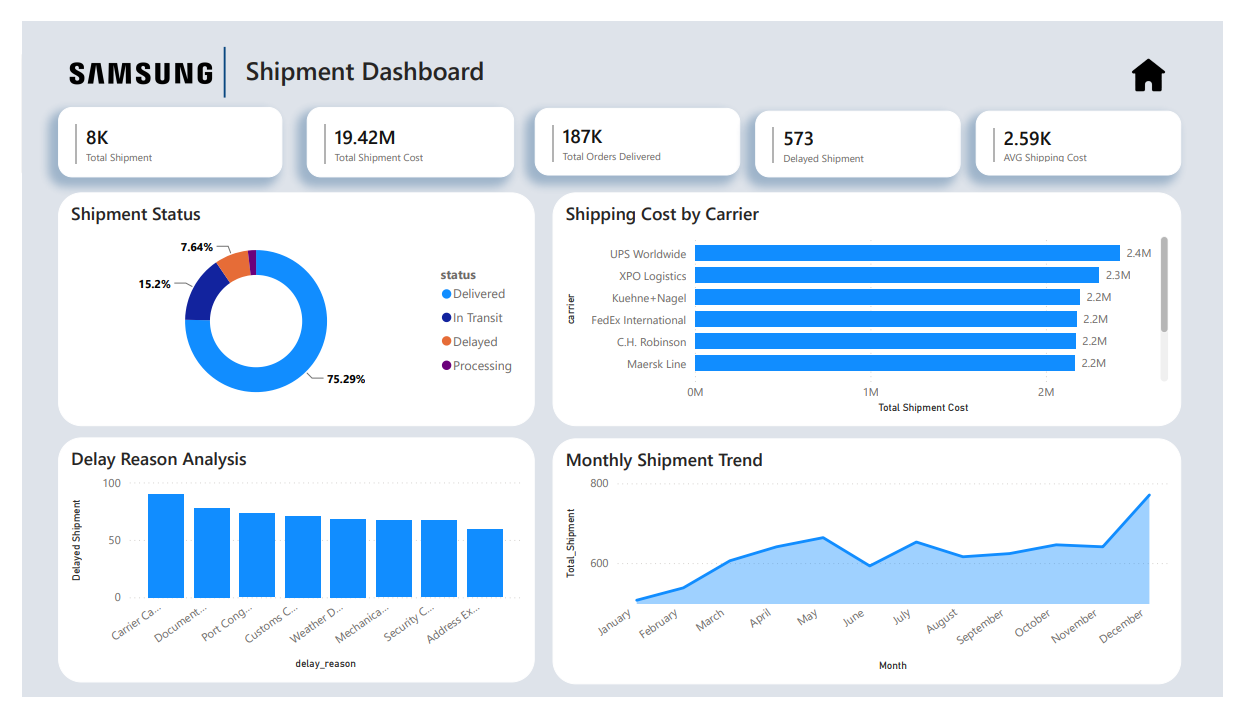

This screenshot's page, from the dashboard's own definition file:
{"tool":"powerbi","page":{"name":"Shipment","canvas":[1280,720],"ordinal":4},"visuals":[{"type":"image","box":[38.9,22.2,169.2,64.7],"z":1000},{"type":"shape","box":[139.7,27.2,153,53.5],"z":2000},{"type":"shape","title":"Shipment Dashboard","box":[239.5,33.2,307.3,43.3],"z":3000},{"type":"cardVisual","fields":{"Data":["Inventory.Total Shipment Cost"]},"box":[304.4,90.9,220.7,75],"z":4000},{"type":"cardVisual","fields":{"Data":["Measures Table.Total Orders Delivered"]},"box":[546.8,92.3,219.3,72.1],"z":5000},{"type":"cardVisual","fields":{"Data":["Inventory.Delayed Shipment"]},"box":[782,95.2,219.3,70.7],"z":6000},{"type":"cardVisual","fields":{"Data":["Inventory.AVG Shipping Cost"]},"box":[1017.1,95.2,219.3,69.3],"z":7000},{"type":"cardVisual","fields":{"Data":["Measures Table.Total_Shipment"]},"box":[39,90.9,239.5,75],"z":8000},{"type":"donutChart","title":"Shipment Status","fields":{"Category":["fact_Shipment.status"],"Y":["Measures Table.Total_Shipment"]},"box":[39,181.8,507.9,249.6],"z":9000},{"type":"clusteredBarChart","title":"Shipping Cost by Carrier","fields":{"Category":["fact_Shipment.carrier"],"Y":["Inventory.Total Shipment Cost"]},"box":[565.6,181.8,670.9,249.6],"z":10000},{"type":"areaChart","title":"Monthly Shipment Trend","fields":{"Y":["Measures Table.Total_Shipment"],"Category":["dim_Date.date.Variation.Date Hierarchy.Month"]},"box":[565.6,444.4,670.9,261.1],"z":11000},{"type":"columnChart","title":"Delay Reason Analysis","fields":{"Category":["fact_Shipment.delay_reason"],"Y":["Inventory.Delayed Shipment"]},"box":[39,442.9,507.9,261.1],"z":12000},{"type":"image","box":[1165.8,21.6,70.7,70.7],"z":13000}]}

Visuals, with their boxes in screenshot pixels (x1, y1, x2, y2), scaled from the page's 1280x720 canvas onto the 1241x717 screenshot:
image: <region>38, 22, 202, 87</region>
shape: <region>135, 27, 284, 80</region>
"Shipment Dashboard" shape: <region>232, 33, 530, 76</region>
cardVisual - Inventory.Total Shipment Cost: <region>295, 91, 509, 165</region>
cardVisual - Measures Table.Total Orders Delivered: <region>530, 92, 743, 164</region>
cardVisual - Inventory.Delayed Shipment: <region>758, 95, 971, 165</region>
cardVisual - Inventory.AVG Shipping Cost: <region>986, 95, 1199, 164</region>
cardVisual - Measures Table.Total_Shipment: <region>38, 91, 270, 165</region>
"Shipment Status" donutChart: <region>38, 181, 530, 430</region>
"Shipping Cost by Carrier" clusteredBarChart: <region>548, 181, 1199, 430</region>
"Monthly Shipment Trend" areaChart: <region>548, 443, 1199, 703</region>
"Delay Reason Analysis" columnChart: <region>38, 441, 530, 701</region>
image: <region>1130, 22, 1199, 92</region>
